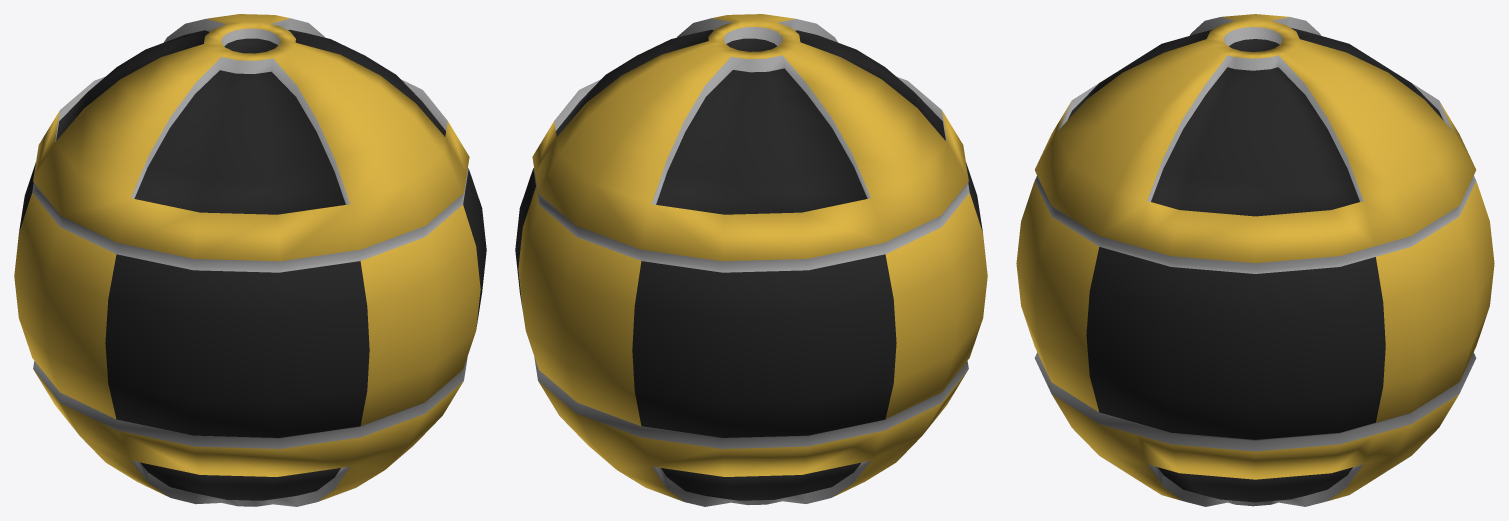
Rendered from Nuke.fbx.
3 renders of one model, left to right at view 1: azimuth 30°, elevation 25°; view 2: azimuth 150°, elevation 25°; view 3: azimuth 270°, elevation 25°, orthographic.
Parts seen in each view (by area): view 1: Sphere; view 2: Sphere; view 3: Sphere.
Boxes of the visible parts, x1=… form: Sphere: x1=14, y1=14, x2=486, y2=506; Sphere: x1=515, y1=14, x2=987, y2=506; Sphere: x1=1016, y1=14, x2=1494, y2=506.
Bounding box in the file's own units: 200 × 207 × 200.
